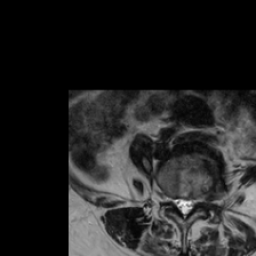CCS_normal: (180, 189, 187, 223)
LFS_normal: (194, 186, 202, 208)
LLS_normal: (187, 190, 194, 219)
RFS_stenosis: (165, 186, 173, 208)
RLS_normal: (173, 188, 180, 215)
